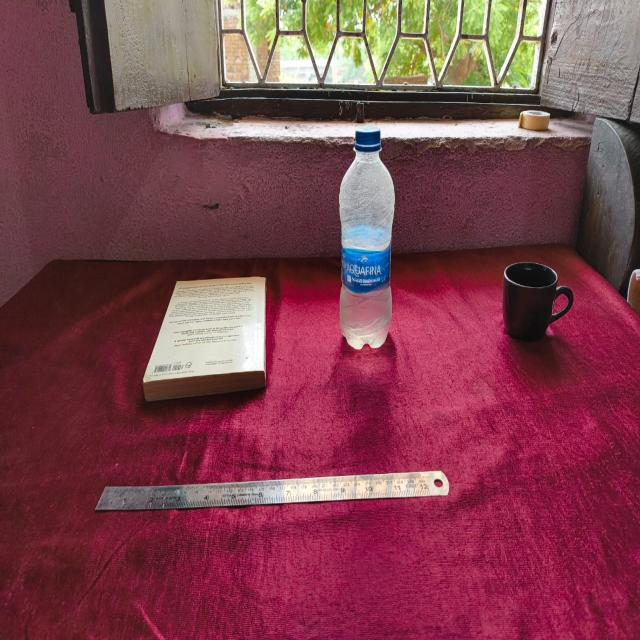scale: (96, 471, 449, 509)
